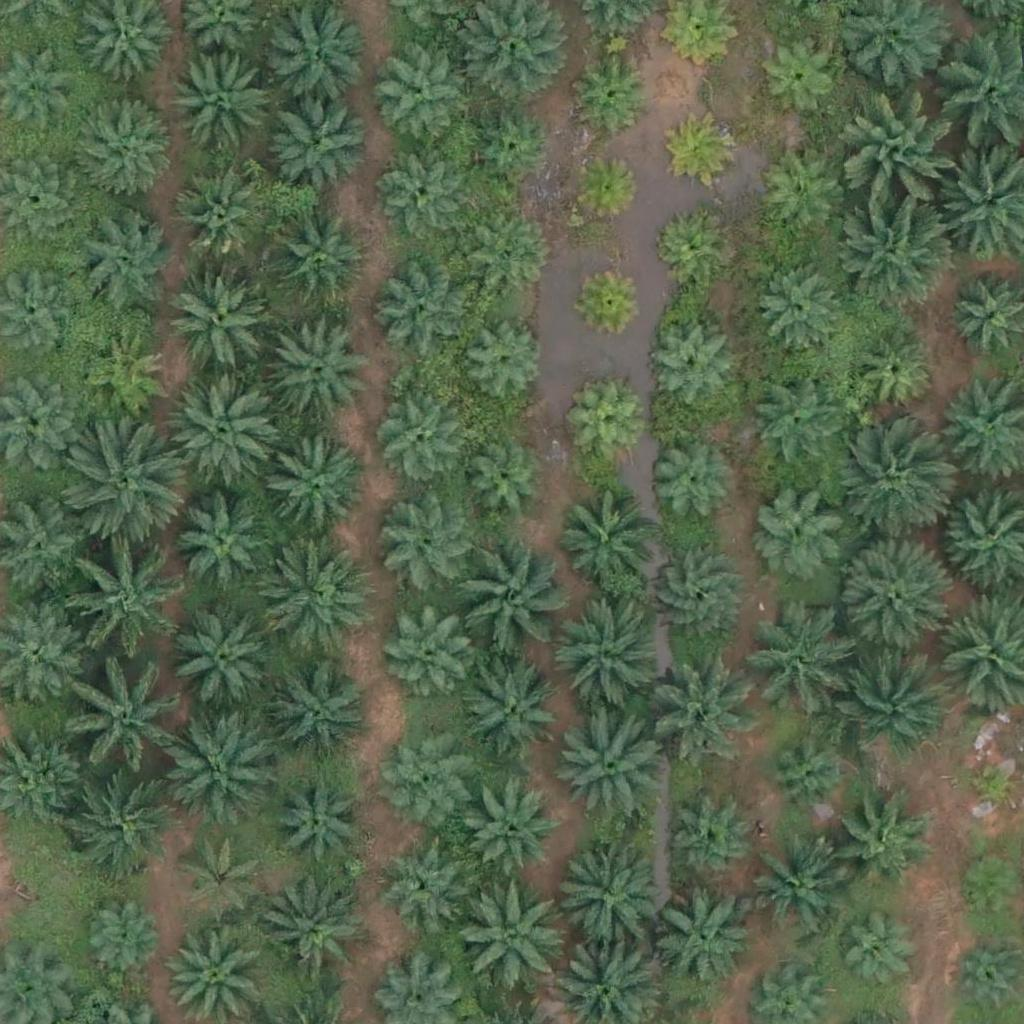Kelapa_Sawit: (548, 706, 661, 820), (834, 539, 947, 652), (545, 837, 658, 950), (257, 436, 370, 549), (258, 545, 371, 658), (168, 602, 281, 715), (841, 196, 954, 309), (67, 428, 180, 541), (834, 641, 946, 755), (551, 602, 663, 716), (453, 879, 565, 993), (847, 100, 959, 214), (832, 430, 944, 543), (645, 647, 757, 760), (449, 541, 561, 654), (169, 380, 281, 493), (166, 718, 278, 831), (69, 553, 181, 666), (69, 671, 181, 784), (64, 769, 176, 882), (828, 793, 928, 894), (742, 842, 842, 943), (742, 614, 842, 715), (652, 890, 752, 991), (555, 490, 655, 591), (458, 658, 558, 759), (379, 495, 479, 596), (268, 315, 368, 416), (262, 888, 362, 989), (175, 495, 275, 596), (264, 7, 364, 108), (269, 90, 369, 191), (169, 263, 269, 364), (268, 207, 368, 308), (375, 259, 475, 360), (171, 55, 271, 156), (75, 92, 175, 193), (749, 480, 849, 580), (647, 548, 747, 648), (76, 210, 176, 310), (269, 663, 368, 764), (849, 329, 937, 417), (763, 731, 851, 819), (644, 322, 732, 410), (470, 791, 558, 879), (370, 394, 458, 482), (466, 102, 554, 190), (466, 220, 554, 308), (752, 30, 840, 118), (757, 153, 845, 241), (376, 58, 464, 146), (377, 150, 465, 238), (749, 379, 836, 468), (181, 834, 268, 923), (646, 438, 733, 526), (668, 800, 755, 888), (462, 318, 549, 406), (459, 442, 546, 530), (373, 837, 460, 925), (382, 725, 469, 813), (385, 610, 472, 698), (276, 776, 363, 864), (80, 897, 167, 985), (756, 262, 843, 350), (174, 172, 261, 260), (82, 332, 169, 420), (651, 208, 726, 284), (834, 917, 909, 993), (568, 388, 643, 464), (573, 261, 648, 337), (666, 112, 741, 188), (576, 54, 651, 129), (568, 151, 643, 226), (961, 753, 1023, 816)
